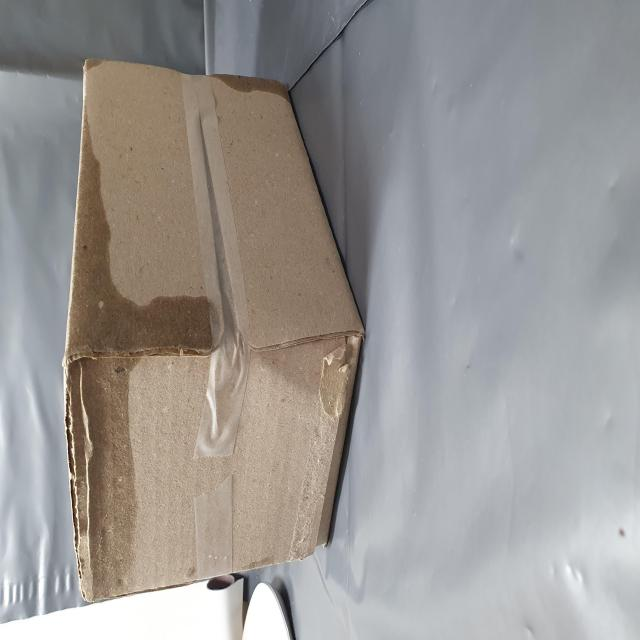wet: (28, 131, 290, 420)
